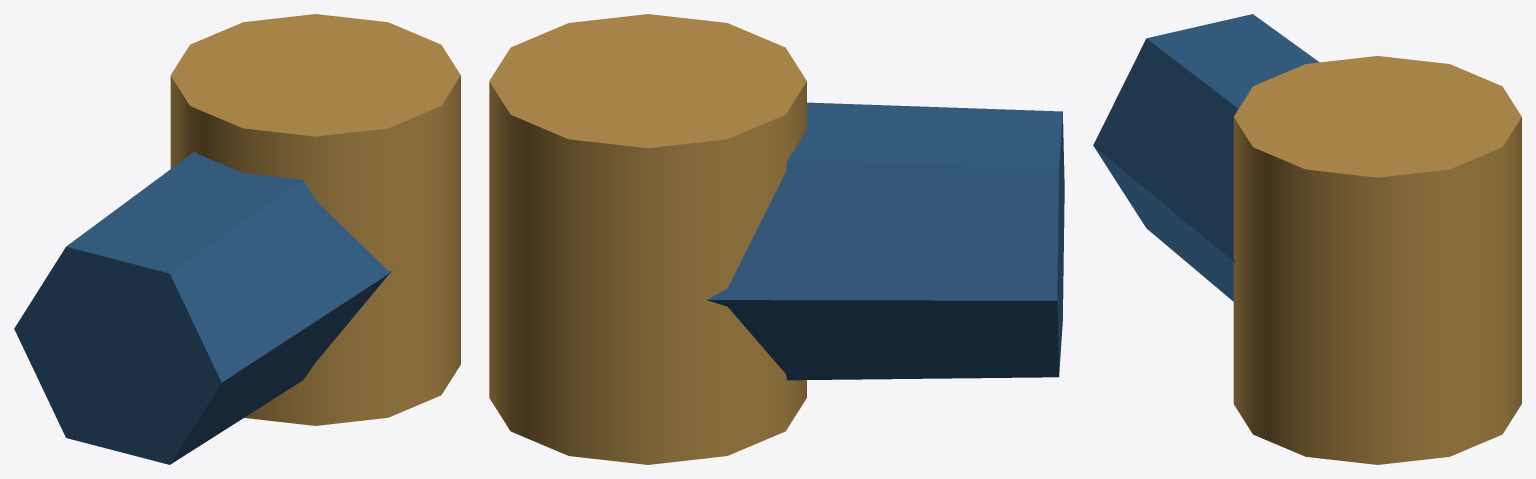
Rendered from rm2_leg_fr_coxa.obj.
3 views of the same model, side by side, from view 1: azimuth 30°, elevation 25°; view 2: azimuth 150°, elevation 25°; view 3: azimuth 270°, elevation 25° (orthographic). The views are drawn at different scales.
Visible parts, largest first — view 1: rm2_leg_fr_coxa; view 2: rm2_leg_fr_coxa; view 3: rm2_leg_fr_coxa.
Boxes of the visible parts, x1,y1,x2,y2 form: rm2_leg_fr_coxa: (14, 14, 460, 464); rm2_leg_fr_coxa: (489, 14, 1064, 464); rm2_leg_fr_coxa: (1093, 14, 1521, 464).
Bounding box in the file's own units: 0.1843 × 0.11 × 0.1488.
